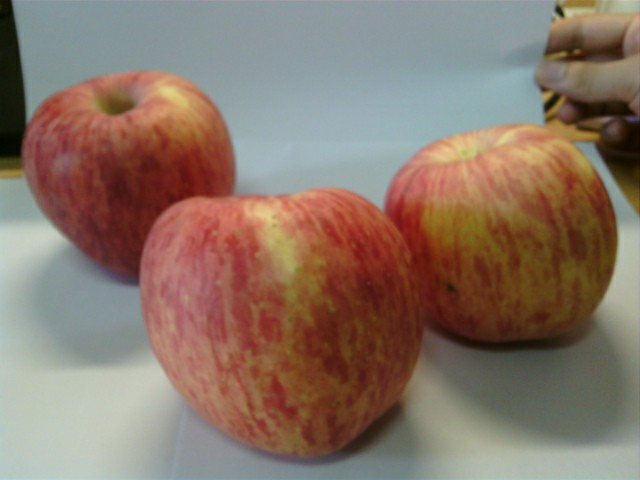normal_apple: (138, 192, 421, 459), (385, 122, 614, 349), (24, 71, 241, 285)
